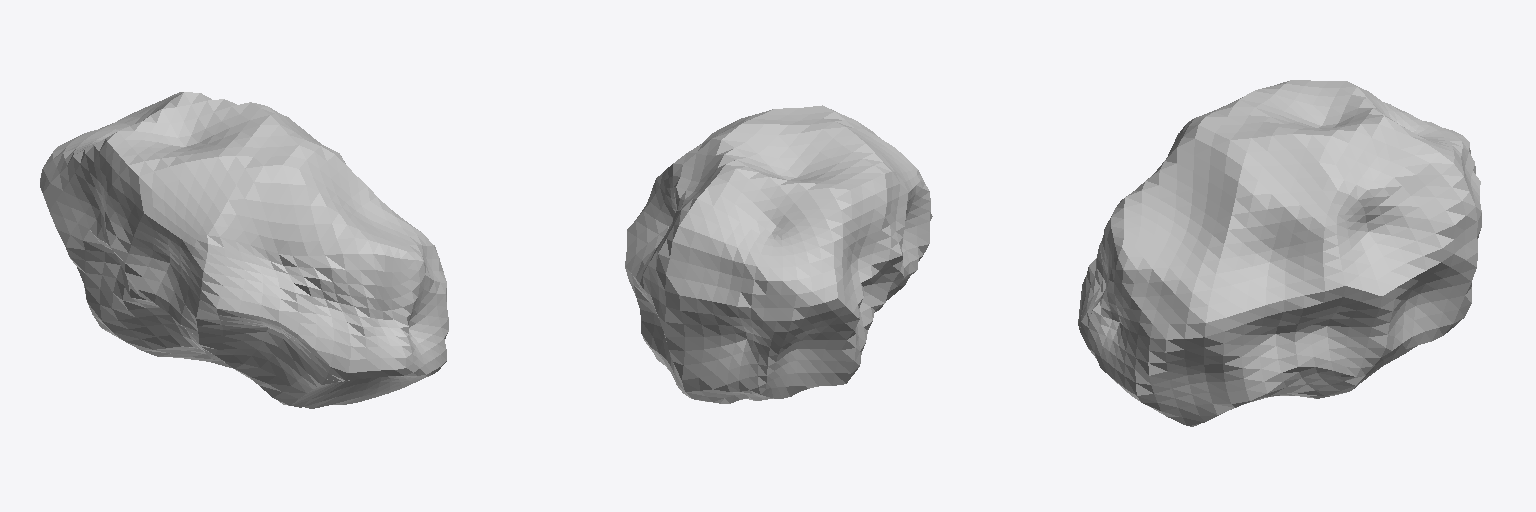
The model's file is scoglio-1.obj.
3 renders of one model, left to right at view 1: azimuth 30°, elevation 25°; view 2: azimuth 150°, elevation 25°; view 3: azimuth 270°, elevation 25°, orthographic.
Parts seen in each view (by area): view 1: Cube; view 2: Cube; view 3: Cube.
Part boxes in pixels (x1,y1,x2,y2): Cube: (40, 92, 448, 408); Cube: (625, 105, 932, 403); Cube: (1078, 80, 1481, 426).
Size of the model in its own units: 5.81 by 5.15 by 7.15.